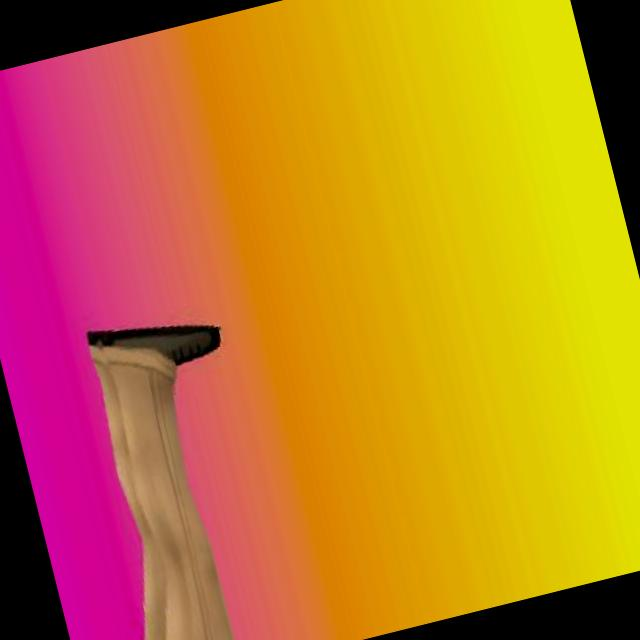Person: (49, 291, 306, 640)
